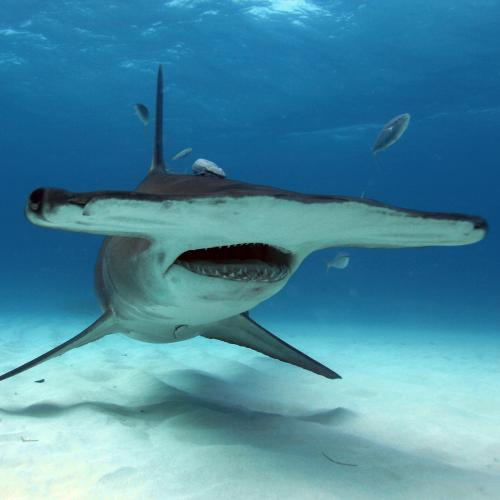shark-endangered: (0, 164, 488, 383)
